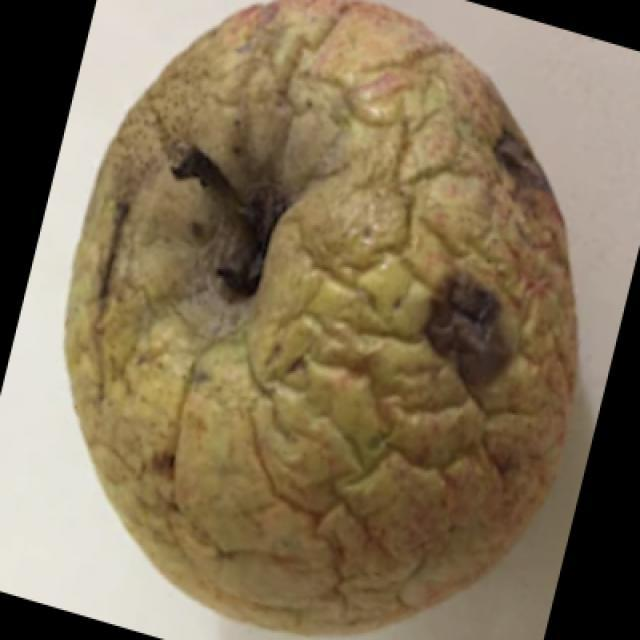Rotten: (72, 0, 580, 610)
